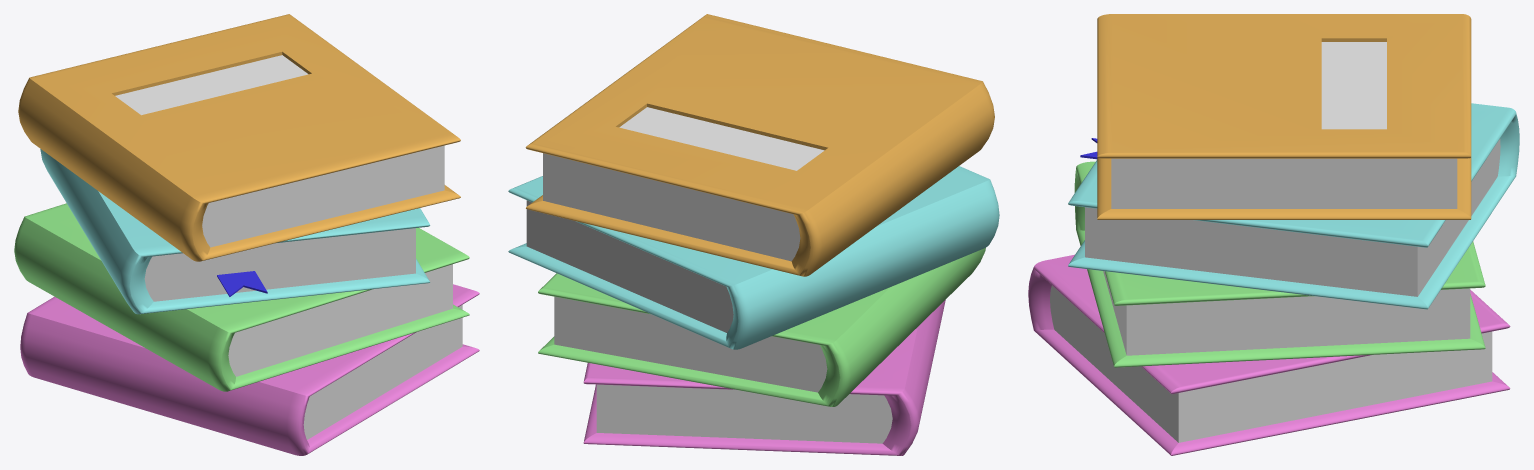
The model's file is 2_tougou.fbx.
3 renders of one model, left to right at view 1: azimuth 30°, elevation 25°; view 2: azimuth 150°, elevation 25°; view 3: azimuth 270°, elevation 25°, orthographic. The views are drawn at different scales.
Parts seen in each view (by area): view 1: Cube; view 2: Cube; view 3: Cube.
Part boxes in pixels (bbox=[...]): Cube: bbox=[14, 14, 479, 455]; Cube: bbox=[508, 14, 999, 455]; Cube: bbox=[1028, 14, 1519, 455].
Size of the model in its own units: 349 by 228 by 367.
